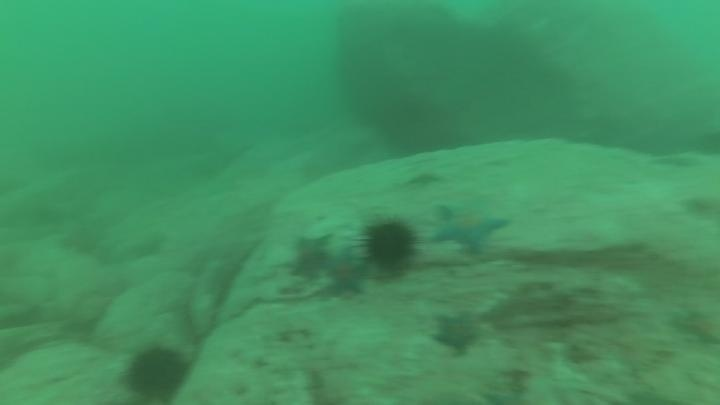echinus: (120, 341, 194, 404), (356, 214, 422, 277)
starfish: (428, 198, 513, 256), (429, 309, 483, 359), (321, 248, 371, 299), (286, 231, 333, 280), (669, 305, 720, 349), (403, 167, 447, 190)
